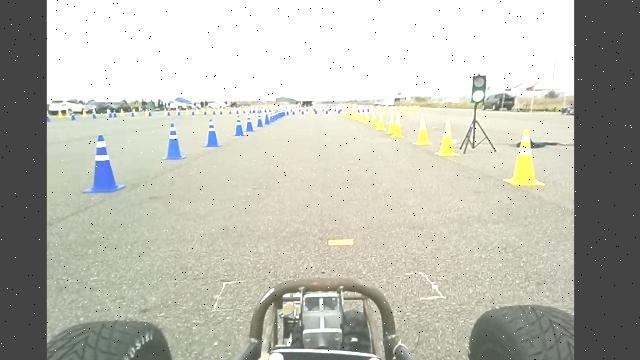blue cone: (82, 134, 126, 193), (162, 122, 186, 160), (203, 118, 222, 148), (233, 115, 244, 136), (245, 114, 254, 132), (256, 115, 264, 128), (264, 113, 271, 125)
yellow cone: (503, 128, 545, 187), (435, 119, 458, 157), (413, 115, 432, 146), (390, 114, 404, 138), (386, 113, 396, 134), (376, 114, 386, 131), (369, 112, 378, 127)
